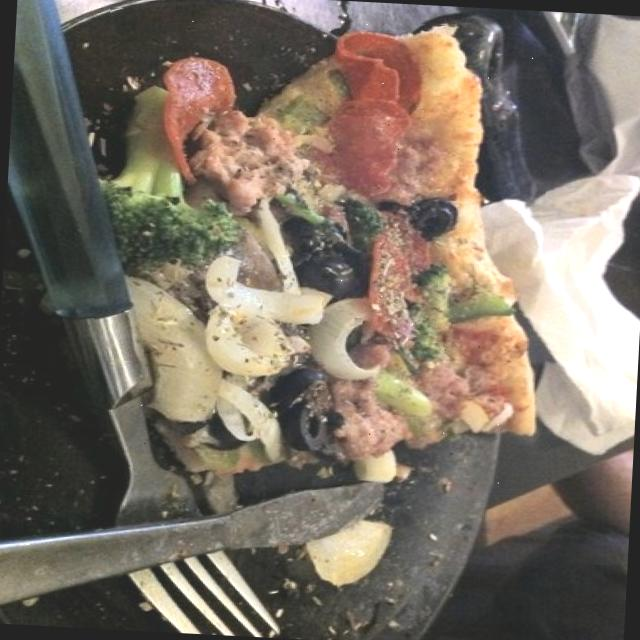Olive: (290, 253, 364, 311), (272, 402, 350, 448), (266, 360, 324, 414), (194, 412, 257, 454), (284, 214, 342, 259), (406, 198, 466, 240)
pepperoni: (308, 90, 428, 202), (362, 207, 438, 337), (324, 28, 431, 119)
pizza: (101, 25, 531, 470)
